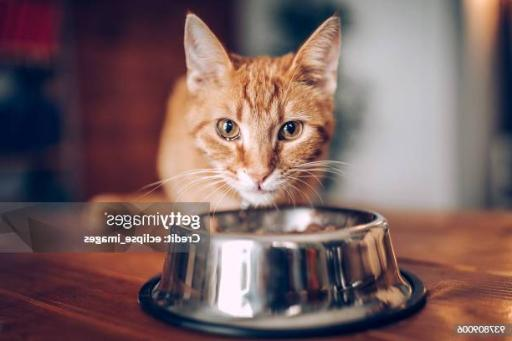cat_eating: (139, 13, 426, 337)
